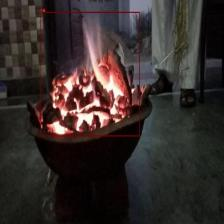fire: (40, 12, 140, 136)
